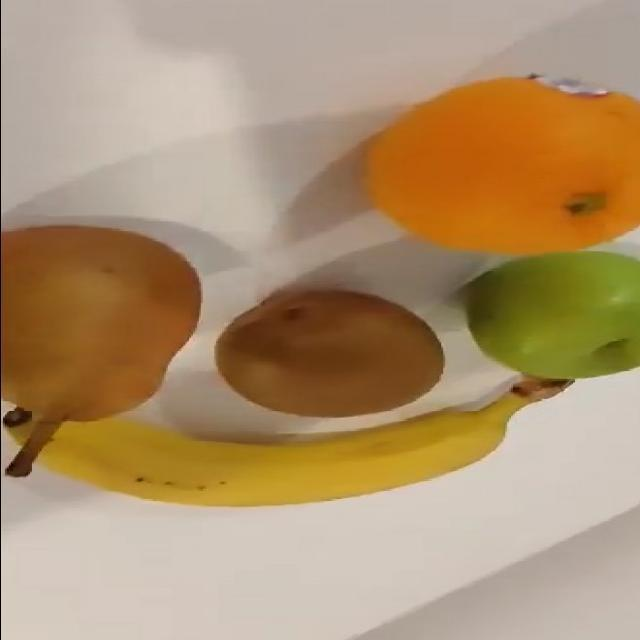Apple: (464, 249, 639, 380)
Banana: (2, 366, 582, 526)
Orange: (363, 72, 639, 256)
